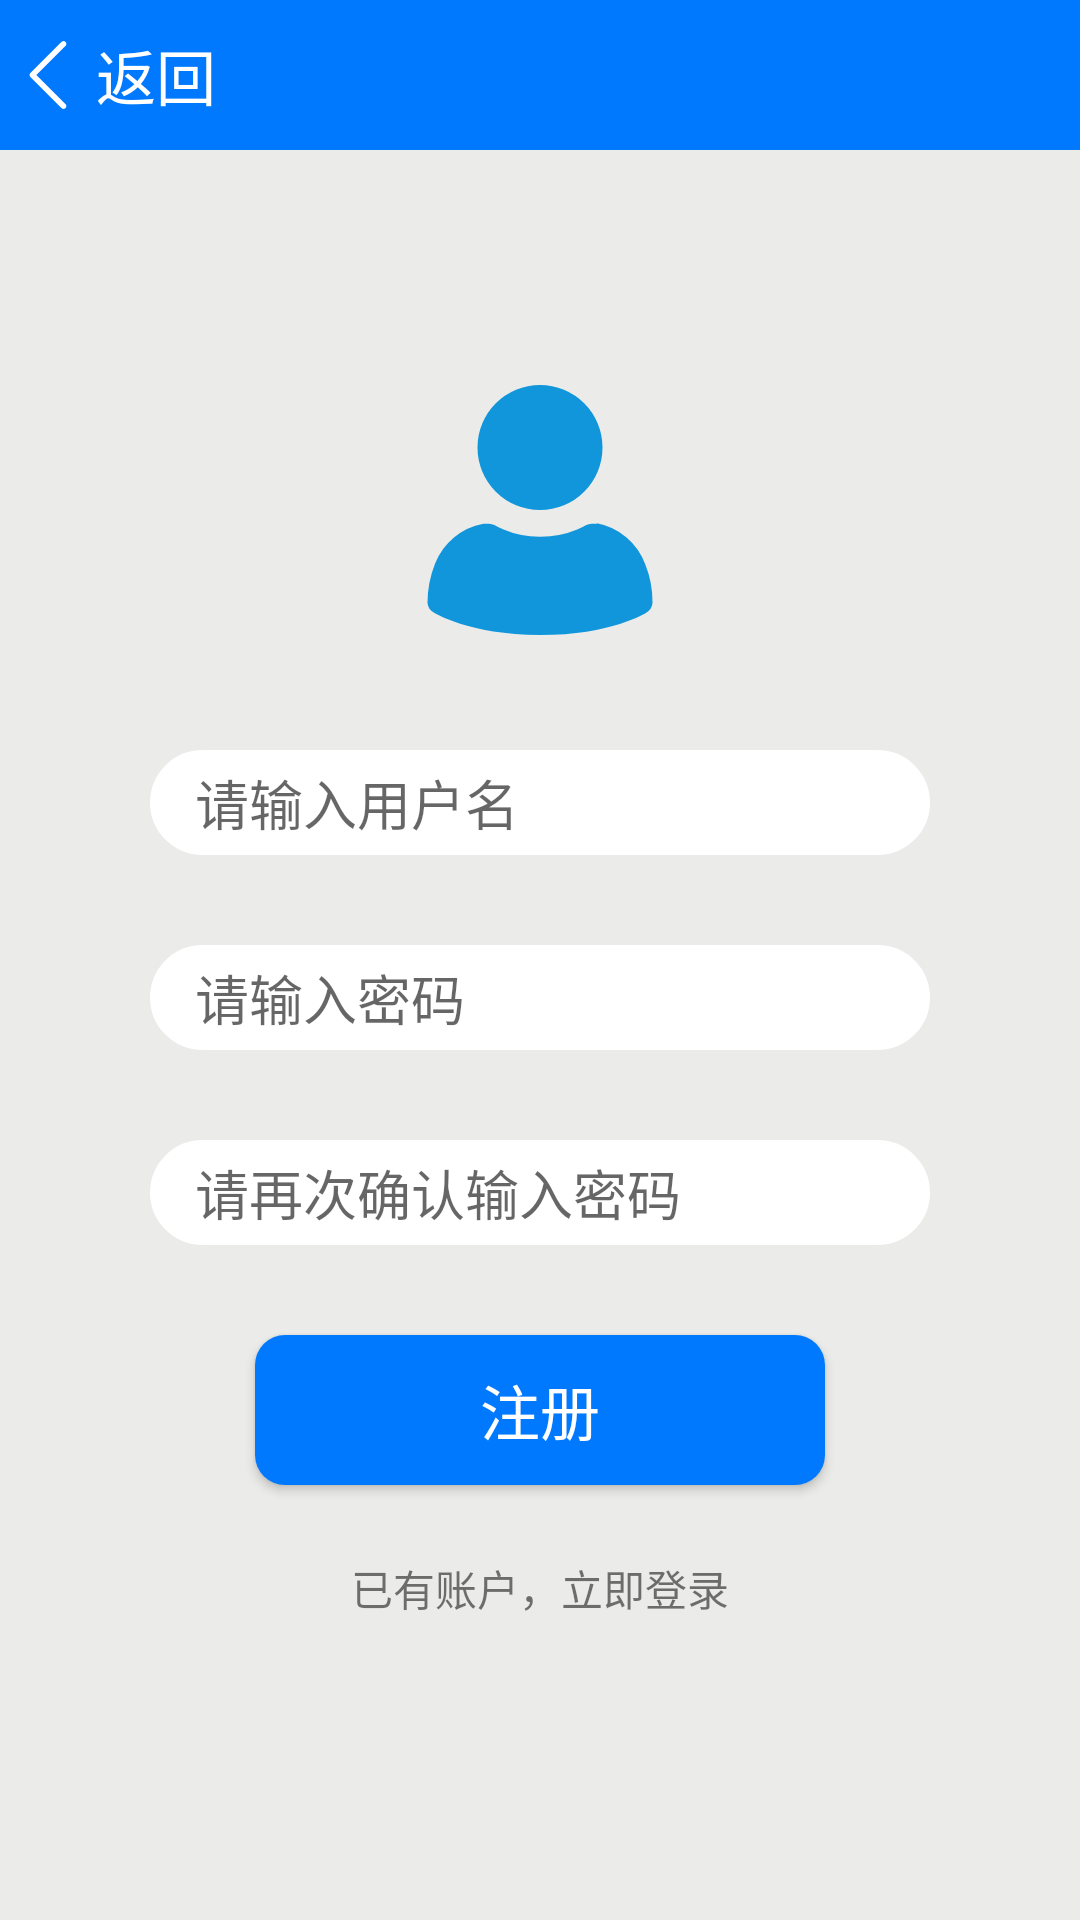

Point at icon controls on the screen. Image size 1080px×1920px, points as (x=x, y=y).
left arrow: (x=48, y=75)
user login: (x=540, y=510)
